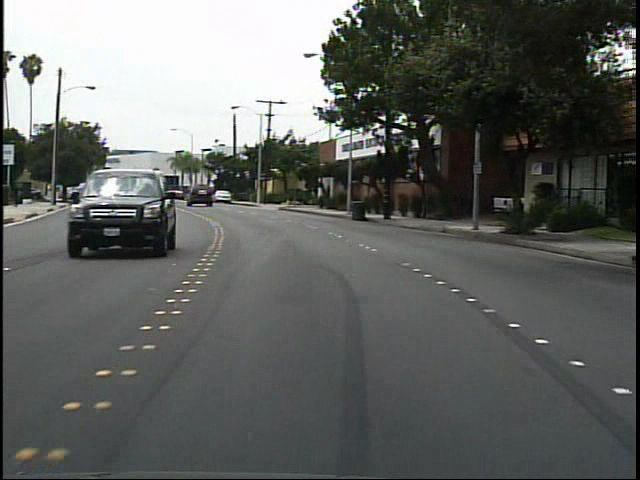person: (10, 178, 29, 210)
